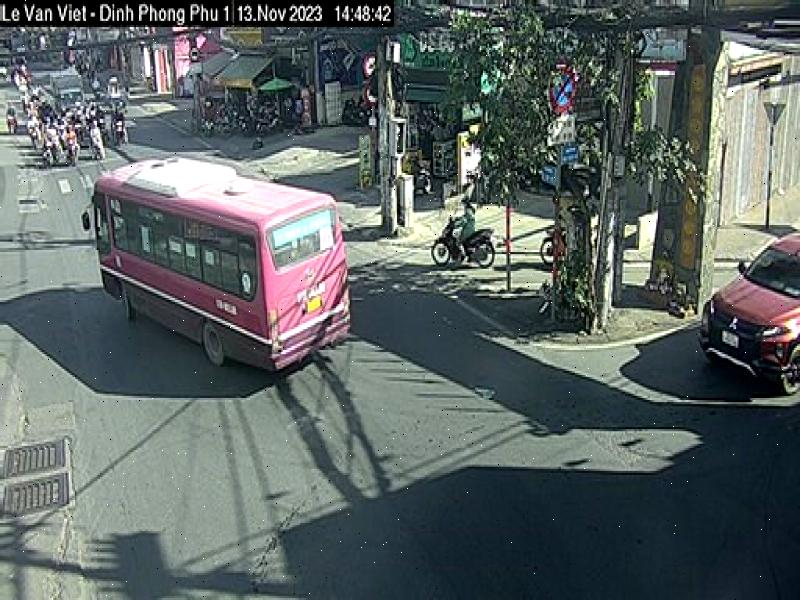bus: (82, 154, 358, 378)
